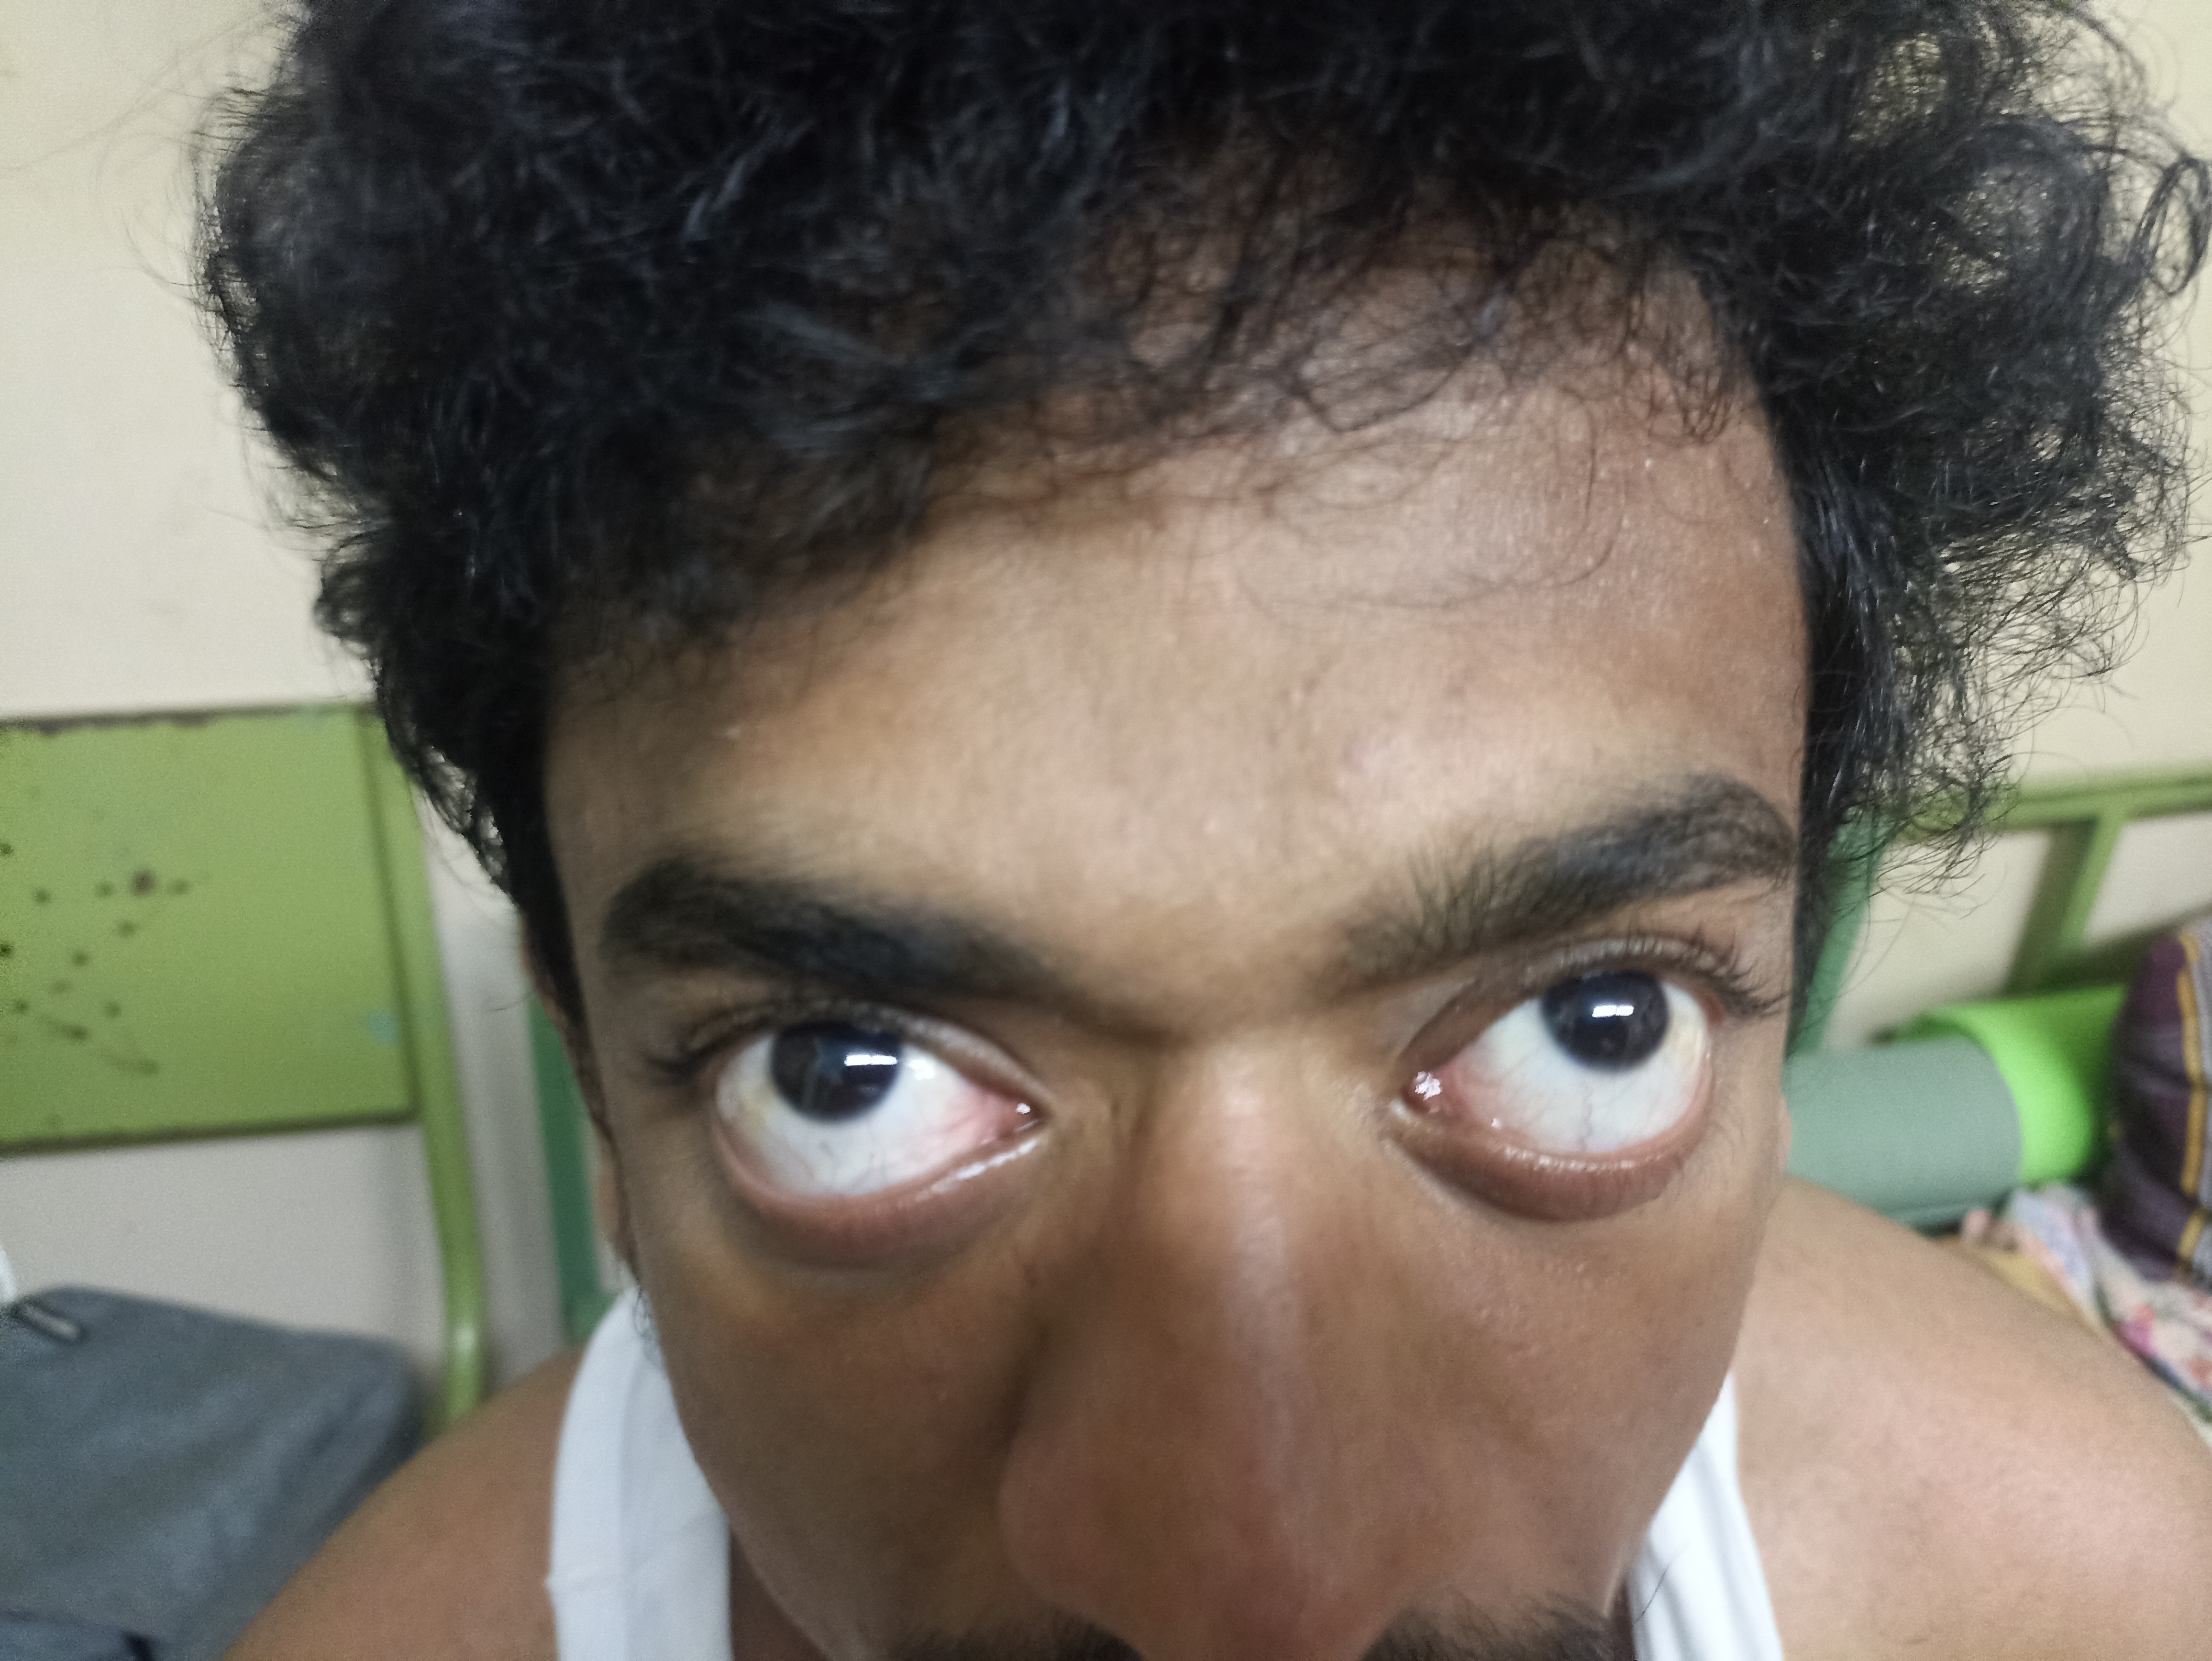EYE UP: (403, 653, 1137, 1343), (1266, 656, 1860, 1328)
